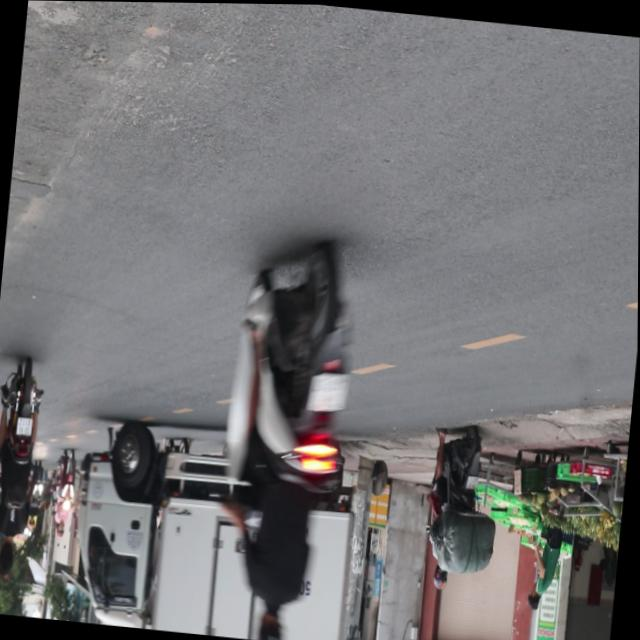helmet: (254, 605, 289, 640), (432, 560, 449, 589)
licenseplate: (204, 231, 370, 640), (419, 419, 506, 594), (0, 355, 50, 583)
motorcyclist: (0, 536, 18, 578)
nohelmet: (308, 369, 349, 413), (15, 417, 33, 436), (466, 473, 478, 488)
